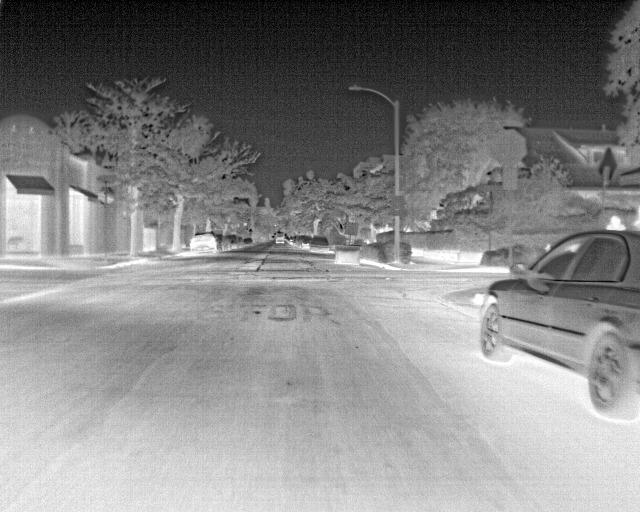bicycle: (477, 229, 635, 425), (186, 234, 219, 255), (306, 235, 333, 254), (224, 234, 238, 249), (301, 236, 315, 251), (273, 232, 286, 246), (242, 237, 254, 249)
empty: (602, 212, 630, 232)
